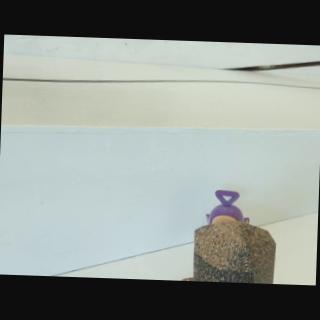teletubby: (206, 190, 249, 224)
